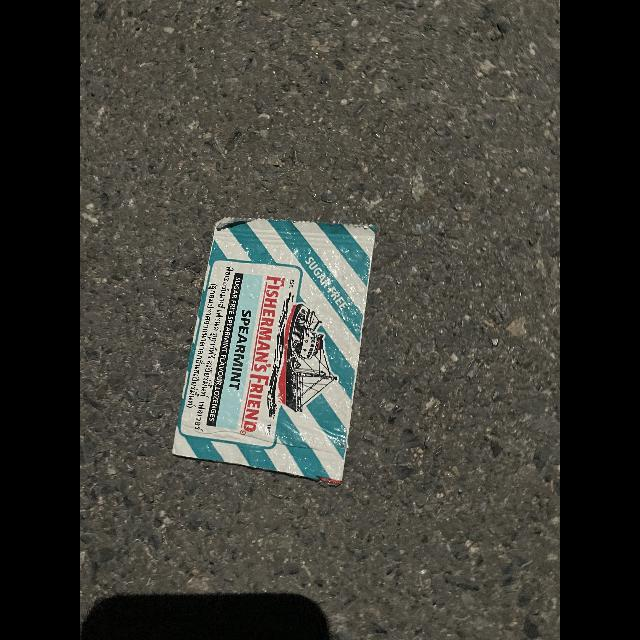snack_bag: (158, 200, 394, 498)
